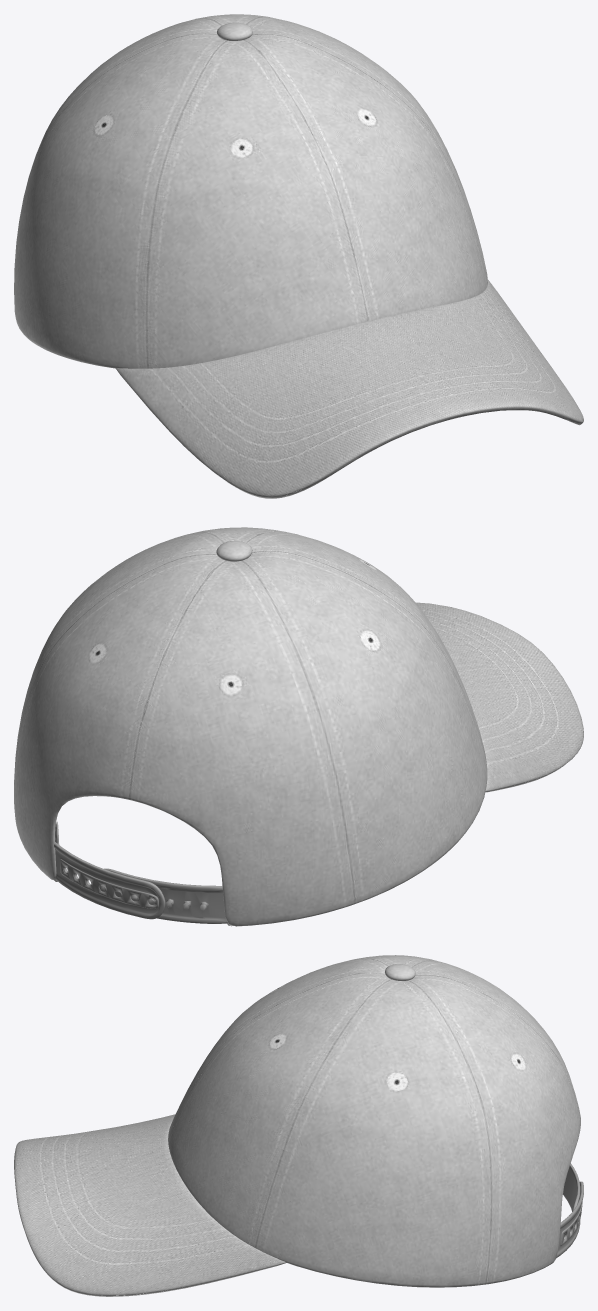
File: cap.glb
3 renders of one model, top to bottom at view 1: azimuth 30°, elevation 25°; view 2: azimuth 150°, elevation 25°; view 3: azimuth 270°, elevation 25°, orthographic. The views are drawn at different scales.
Parts seen in each view (by area): view 1: baseballCap; view 2: baseballCap; view 3: baseballCap.
Boxes of the visible parts, x1=… form: baseballCap: x1=14, y1=14, x2=583, y2=498; baseballCap: x1=14, y1=527, x2=583, y2=926; baseballCap: x1=14, y1=955, x2=583, y2=1296.
Size of the model in its own units: 1 by 0.697 by 1.39.
3 materials, 1 textured.
